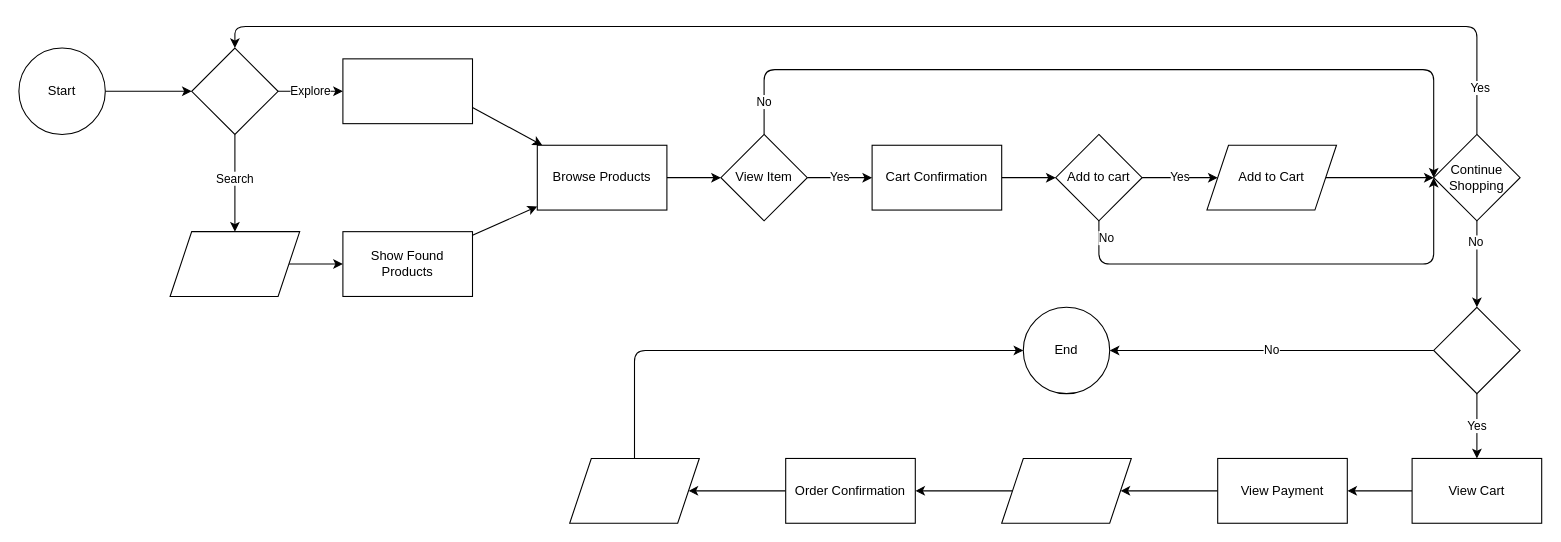
The diagram is 1561 pixels wide and 542 high, and some of its shapes have lost their labels. Each missing label, with the centre of its shape:
"Checkout" belongs at point 1476,350.
"Choice" belongs at point 234,90.
"Input Payment" belongs at point 1066,490.
"Search Input" belongs at point 234,263.
"Send Email" belongs at point 634,490.
"Show Products" belongs at point 407,91.
